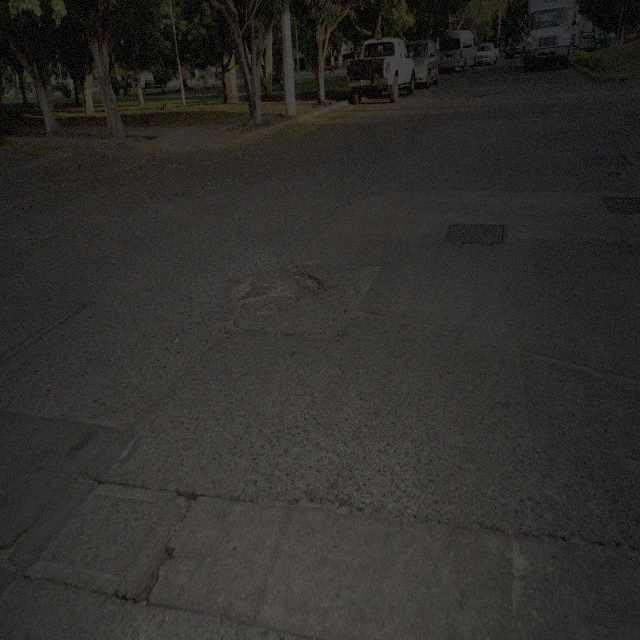pothole: (232, 273, 326, 310), (138, 537, 172, 605), (1, 525, 28, 580), (175, 481, 196, 508)
